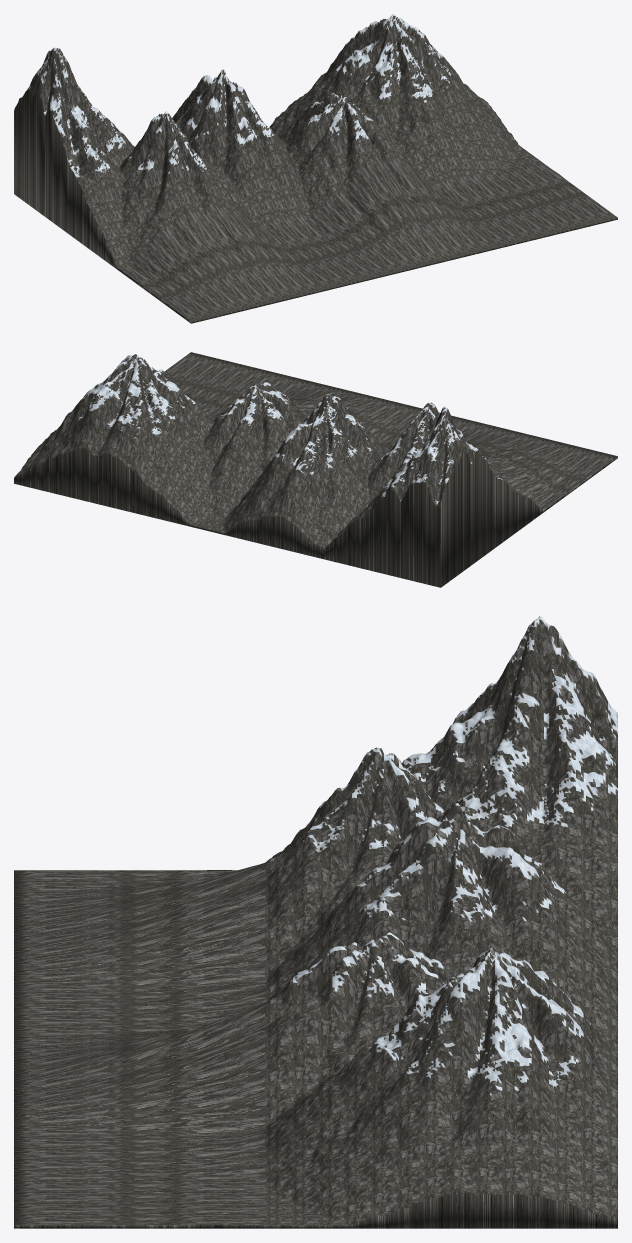
The model's file is alpine-mountain-ridge.glb.
The picture shows the model from 3 angles, top to bottom: view 1: azimuth 30°, elevation 25°; view 2: azimuth 150°, elevation 25°; view 3: azimuth 270°, elevation 25°; orthographic projection. The views are drawn at different scales.
Visible parts, largest first — view 1: alpine-mountain-ridge; view 2: alpine-mountain-ridge; view 3: alpine-mountain-ridge.
Part boxes in pixels (x1,y1,x2,y2): alpine-mountain-ridge: [14, 14, 617, 323]; alpine-mountain-ridge: [14, 352, 617, 587]; alpine-mountain-ridge: [14, 616, 617, 1228].
Size of the model in its own units: 400 by 142 by 288.
Materials: 9 (1 with a texture image).
